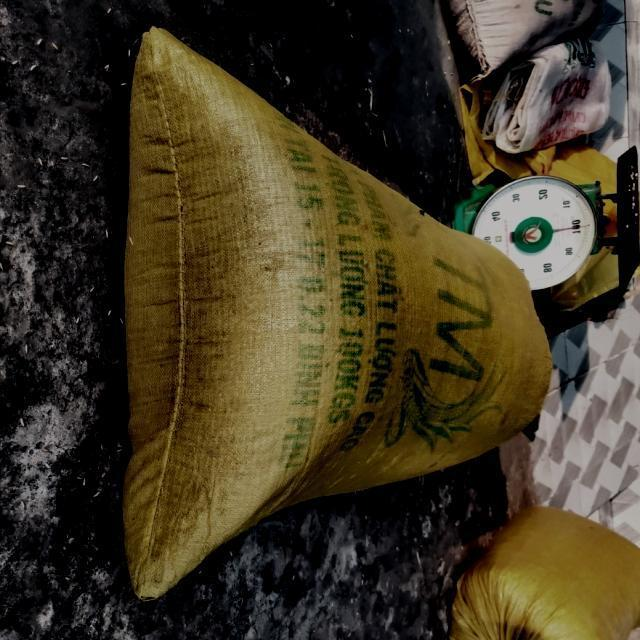gunny_bag: (123, 27, 551, 601), (450, 507, 639, 640)
